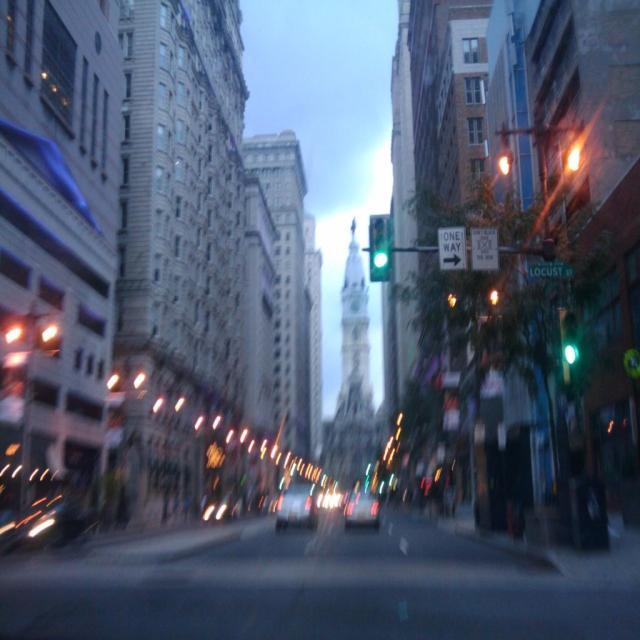traffic light: (369, 214, 393, 281), (557, 310, 582, 370)
